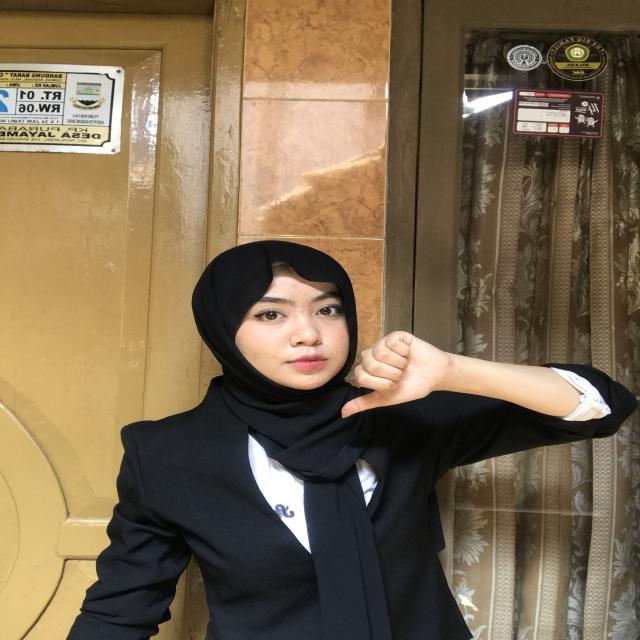sedih: (312, 315, 466, 450)
